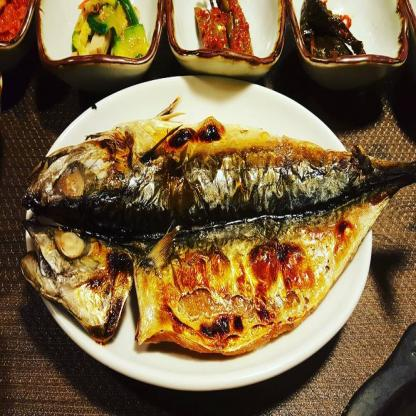Peixe: (5, 136, 409, 368)
